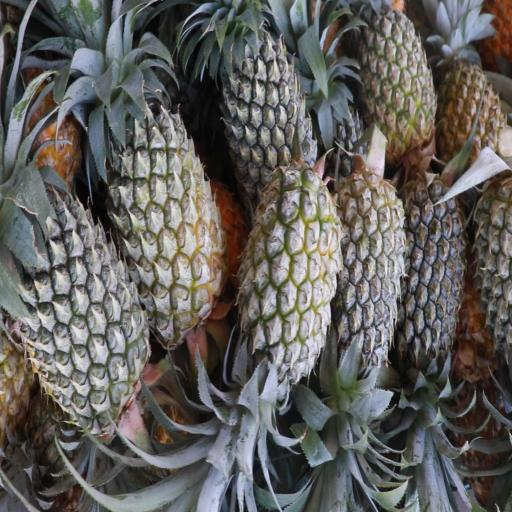------------------------------: (111, 108, 220, 322), (240, 163, 342, 372), (360, 0, 432, 161), (436, 26, 502, 178)
